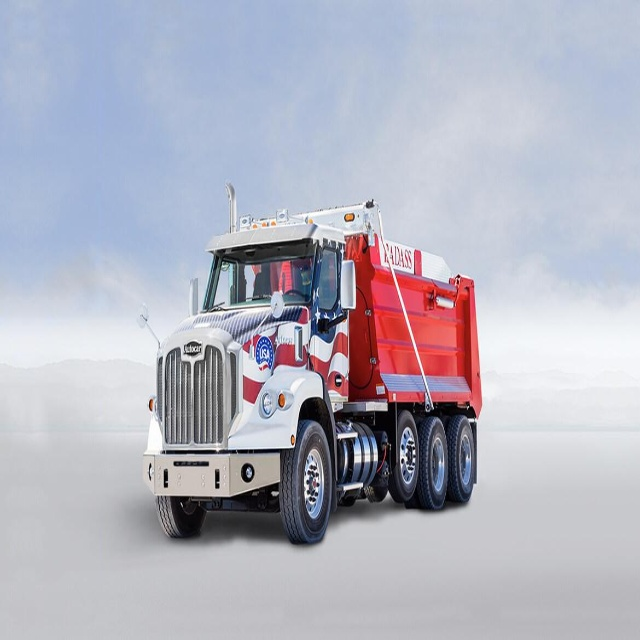Truck: (137, 199, 480, 546)
